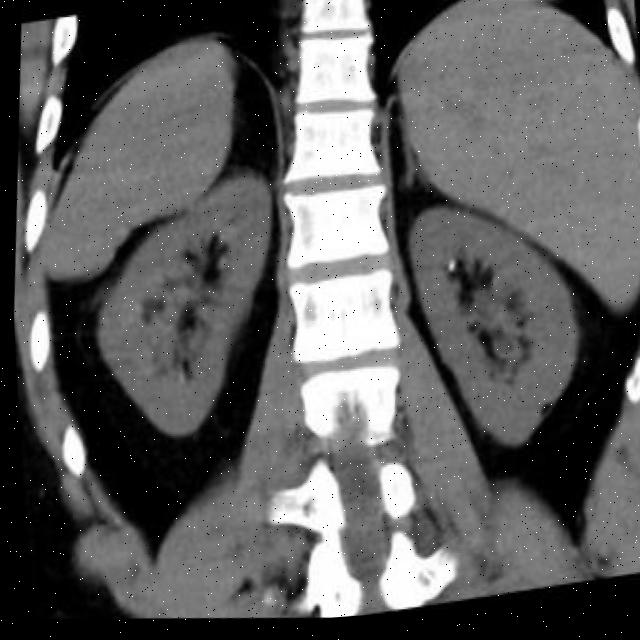Tas_Var: (442, 261, 459, 281)
